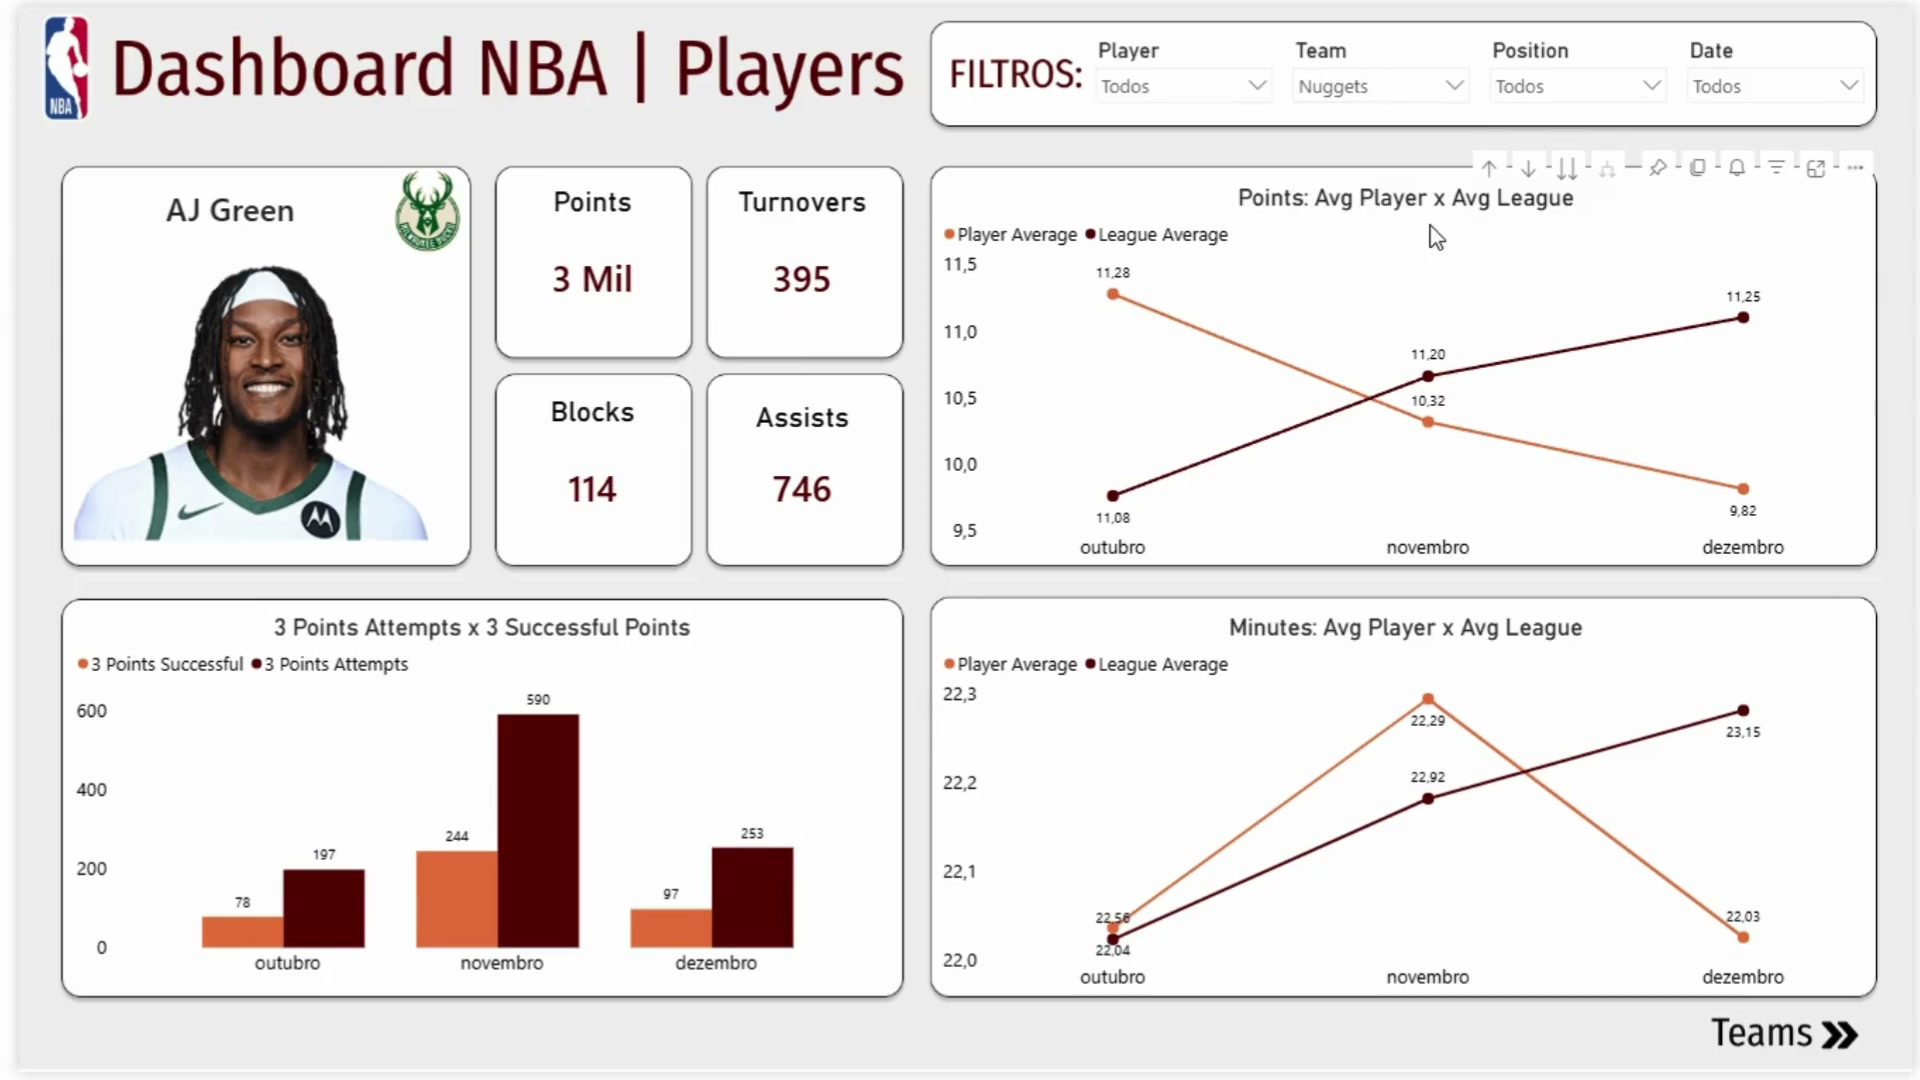

The dashboard page shown, as its layout file describes it:
{"tool":"powerbi","page":{"name":"Players","canvas":[1920,1080],"ordinal":0},"visuals":[{"type":"lineChart","title":"Points: Avg Player x Avg League","fields":{"Category":["dim_alendario.Date.Variation.Hierarquia de datas.Ano","dim_alendario.Date.Variation.Hierarquia de datas.Trimestre","dim_alendario.Date.Variation.Hierarquia de datas.Mês","dim_alendario.Date.Variation.Hierarquia de datas.Dia"],"Y":["Avg(fct_gamelog.points)"],"Y2":["mesures.League Avg Points (Without Player)"]},"box":[931.7,180,950,390],"z":0},{"type":"slicer","fields":{"Values":["dim_teams.team_name"]},"box":[1281.7,25,200,100],"z":1000},{"type":"slicer","fields":{"Values":["dim_players.full_name"]},"box":[1081.7,25,200,100],"z":2000},{"type":"image","box":[53.3,255,396.7,285],"z":3000},{"type":"cardVisual","fields":{"Data":["Min(dim_players.full_name)"]},"box":[53.3,163.3,323.3,81.7],"z":4000},{"type":"slicer","fields":{"Values":["dim_players.position"]},"box":[1481.7,25,200,100],"z":5000},{"type":"image","box":[315,163.3,196.7,91.7],"z":6000},{"type":"slicer","fields":{"Values":["dim_alendario.Date.Variation.Hierarquia de datas.Ano","dim_alendario.Date.Variation.Hierarquia de datas.Trimestre","dim_alendario.Date.Variation.Hierarquia de datas.Mês","dim_alendario.Date.Variation.Hierarquia de datas.Dia"]},"box":[1681.7,25,200,100],"z":7000},{"type":"cardVisual","title":"Points","fields":{"Data":["Sum(fct_gamelog.points)"]},"box":[490,180,183.3,150],"z":8000},{"type":"cardVisual","title":"Turnovers","fields":{"Data":["Sum(fct_gamelog.turnovers)"]},"box":[703.3,180,183.3,150],"z":9000},{"type":"cardVisual","title":"Blocks","fields":{"Data":["Sum(fct_gamelog.blocks)"]},"box":[490,393.3,183.3,150],"z":10000},{"type":"cardVisual","title":"Assists","fields":{"Data":["Sum(fct_gamelog.assist)"]},"box":[703.3,398.3,183.3,141.7],"z":11000},{"type":"lineChart","title":"Minutes: Avg Player x Avg League","fields":{"Category":["dim_alendario.Date.Variation.Hierarquia de datas.Ano","dim_alendario.Date.Variation.Hierarquia de datas.Trimestre","dim_alendario.Date.Variation.Hierarquia de datas.Mês","dim_alendario.Date.Variation.Hierarquia de datas.Dia"],"Y2":["mesures.League Avg Minutes (Without Player)"],"Y":["Avg(fct_gamelog.player_minutes)"]},"box":[931.7,615,950,390],"z":12000},{"type":"clusteredColumnChart","title":" 3 Points Attempts x 3 Successful Points","fields":{"Category":["dim_alendario.Date.Variation.Hierarquia de datas.Ano","dim_alendario.Date.Variation.Hierarquia de datas.Trimestre","dim_alendario.Date.Variation.Hierarquia de datas.Mês","dim_alendario.Date.Variation.Hierarquia de datas.Dia"],"Y":["Sum(fct_gamelog.three_point_made)","Sum(fct_gamelog.three_point_tried)"]},"box":[53.3,615,833.3,376.7],"z":13000},{"type":"shape","box":[1696.7,1016.7,198.3,50],"z":13001}]}

Visuals, with their boxes on the page's 1920x1080 design canvas (x1, y1, x2, y2). These are canvas units, not pixel positions in the 1920x1080 screenshot, which may show the page scaled, cropped or inside an application window:
"Points: Avg Player x Avg League" lineChart: box=[932, 180, 1882, 570]
slicer - dim_teams.team_name: box=[1282, 25, 1482, 125]
slicer - dim_players.full_name: box=[1082, 25, 1282, 125]
image: box=[53, 255, 450, 540]
cardVisual - Min(dim_players.full_name): box=[53, 163, 377, 245]
slicer - dim_players.position: box=[1482, 25, 1682, 125]
image: box=[315, 163, 512, 255]
slicer - dim_alendario.Date.Variation.Hierarquia de datas.Ano x dim_alendario.Date.Variation.Hierarquia de datas.Trimestre: box=[1682, 25, 1882, 125]
"Points" cardVisual: box=[490, 180, 673, 330]
"Turnovers" cardVisual: box=[703, 180, 887, 330]
"Blocks" cardVisual: box=[490, 393, 673, 543]
"Assists" cardVisual: box=[703, 398, 887, 540]
"Minutes: Avg Player x Avg League" lineChart: box=[932, 615, 1882, 1005]
" 3 Points Attempts x 3 Successful Points" clusteredColumnChart: box=[53, 615, 887, 992]
shape: box=[1697, 1017, 1895, 1067]
